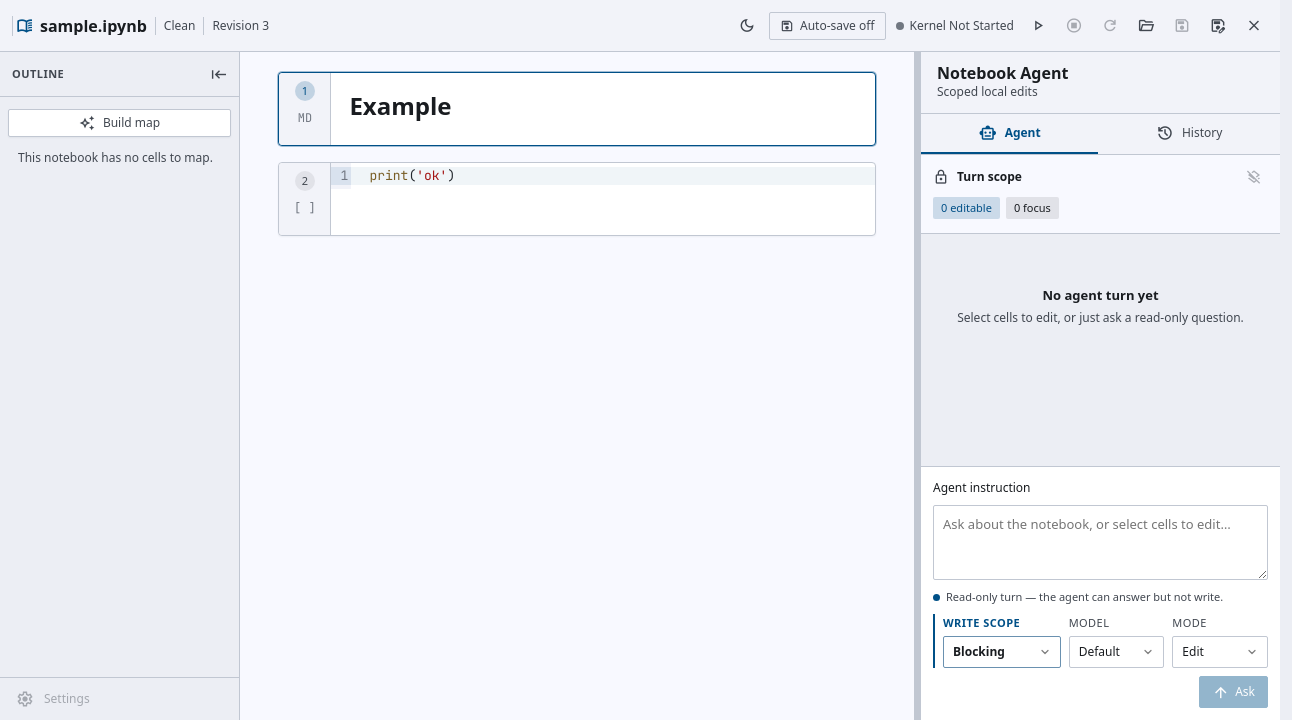
Test case: Notebook editor › keeps the notebook open and refreshes after a close conflict
Click the button named "Close notebook". click: (1254, 26)
box: [1240,12,1268,40]
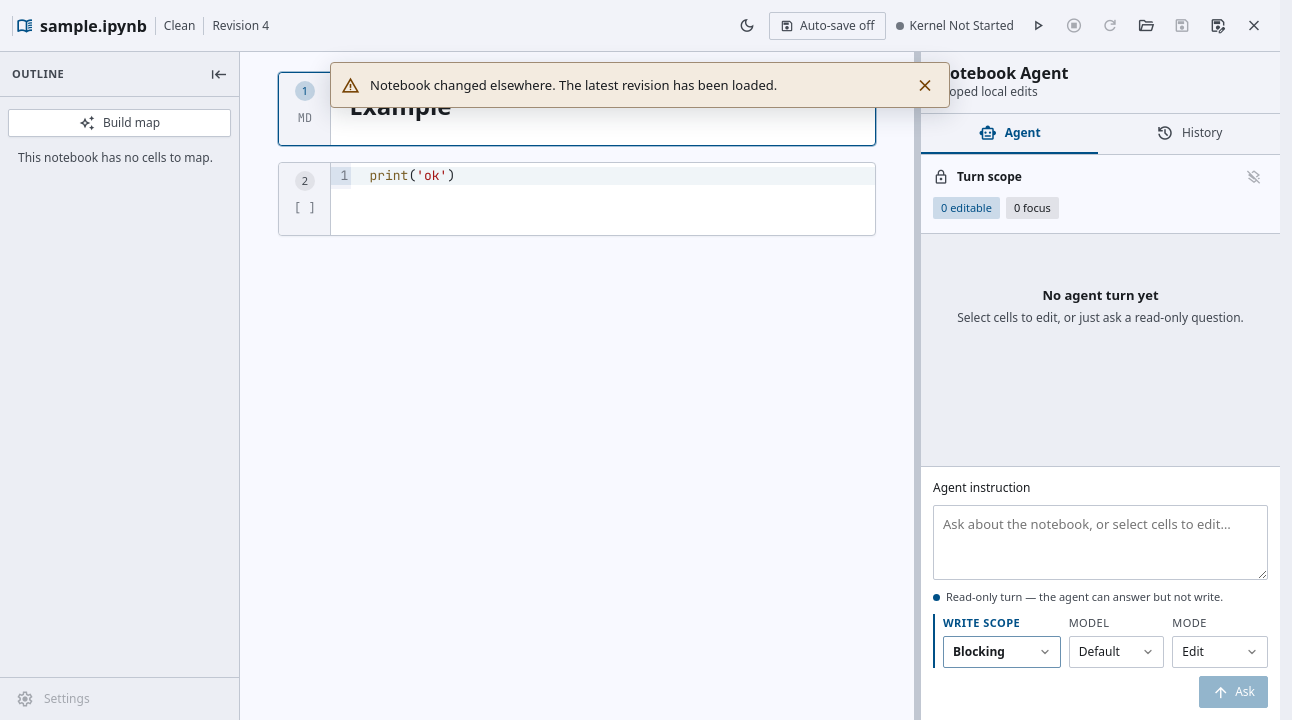
Result: the message shows "Notebook changed elsewhere" at [370,76,777,94]
Result: the text "Revision 4" is shown at [203,16,269,34]
